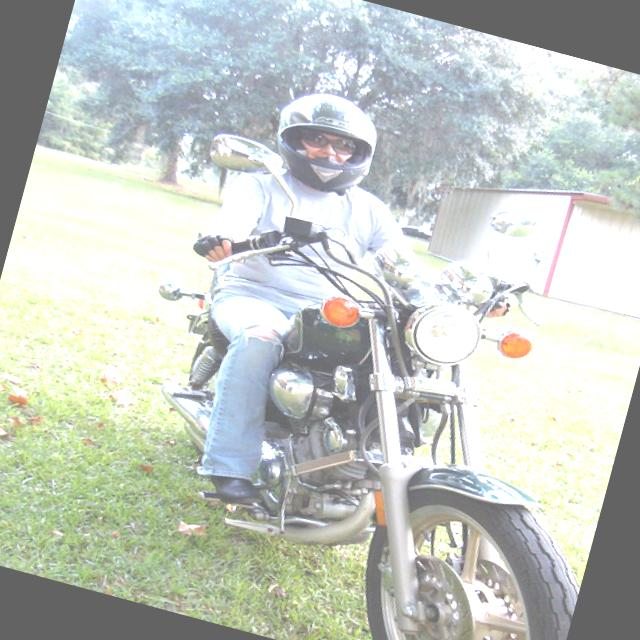Vehicle: (74, 121, 640, 640)
